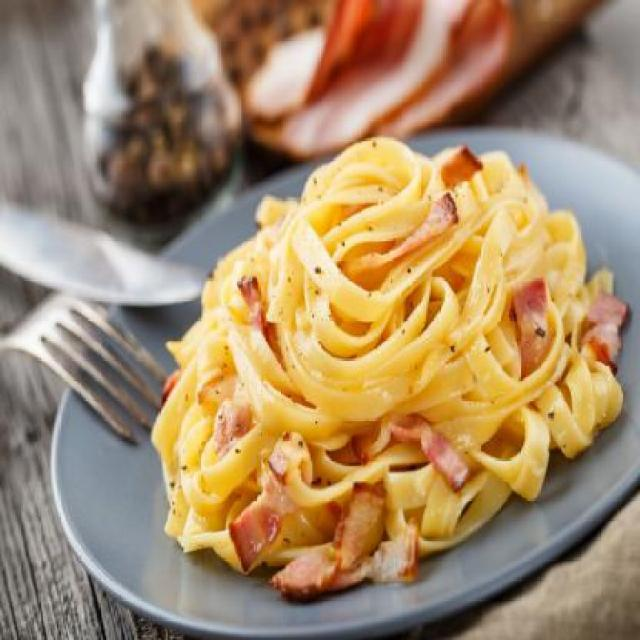Pasta with carbonara sauce: (105, 99, 633, 598)
